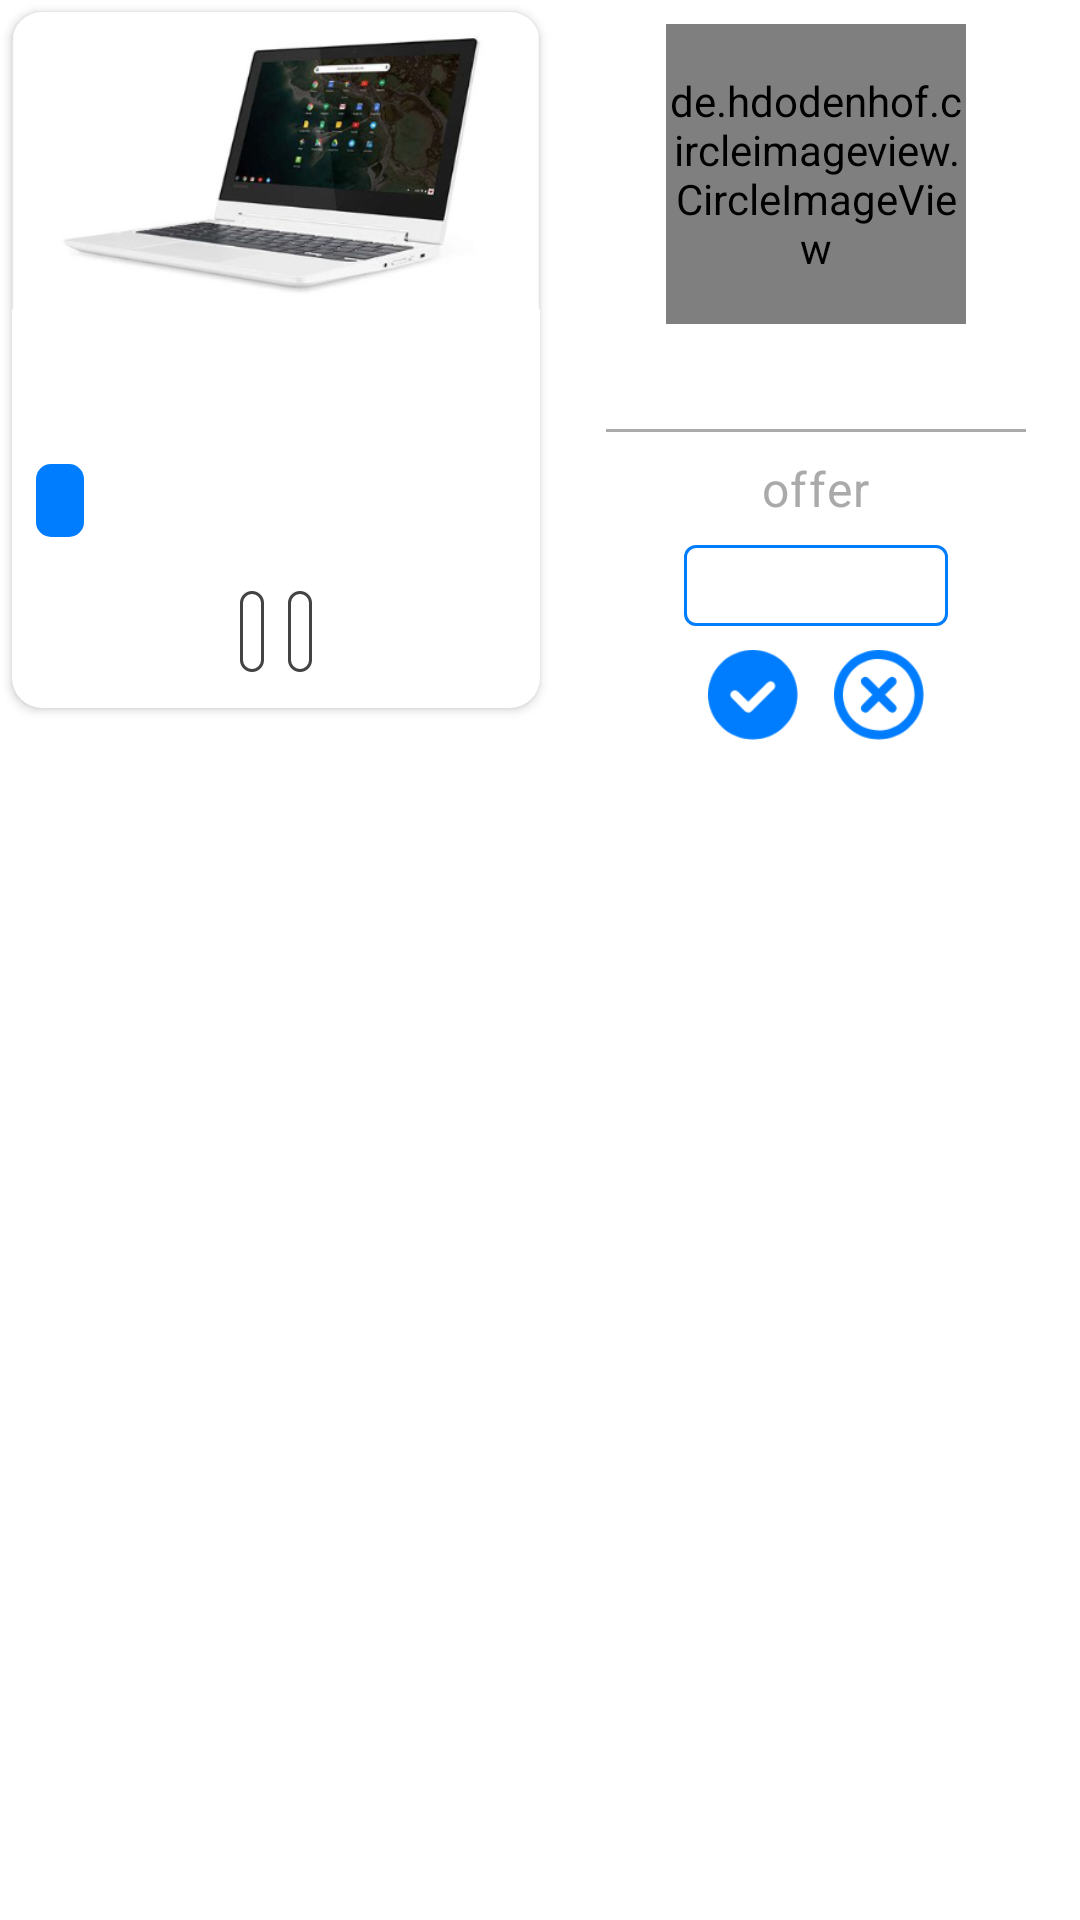

Named icons in this screenshot (1080px x 1920px) and their bounding boxes, (x1, y1, x2, y2):
yes: (708, 650, 798, 740)
